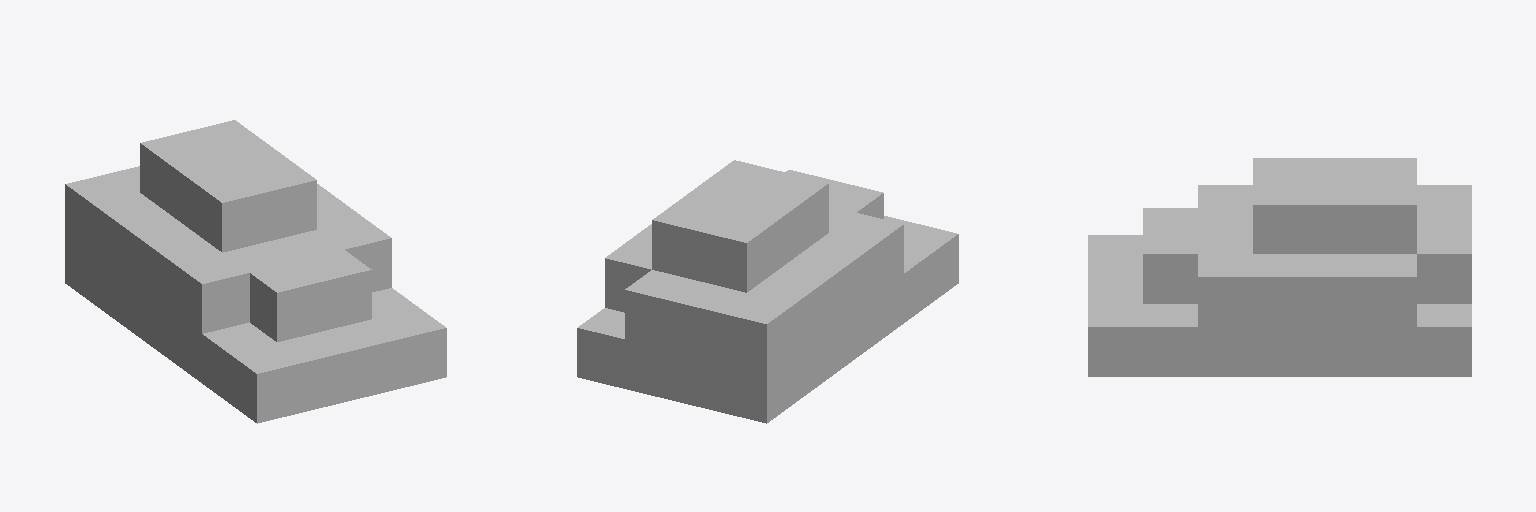
Rendered from rock01.obj.
The picture shows the model from 3 angles: view 1: azimuth 30°, elevation 25°; view 2: azimuth 150°, elevation 25°; view 3: azimuth 270°, elevation 25°; orthographic projection.
Parts seen in each view (by area): view 1: object 1; view 2: object 1; view 3: object 1.
Boxes of the visible parts, x1,y1,x2,y2 form: object 1: [65, 120, 446, 423]; object 1: [577, 160, 958, 423]; object 1: [1088, 158, 1471, 376].
Size of the model in its own units: 0.4 by 0.3 by 0.7.